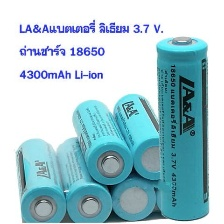battery: (152, 32, 213, 222), (68, 98, 135, 187), (109, 88, 171, 180), (95, 133, 157, 222), (54, 132, 113, 222), (11, 134, 67, 223)
